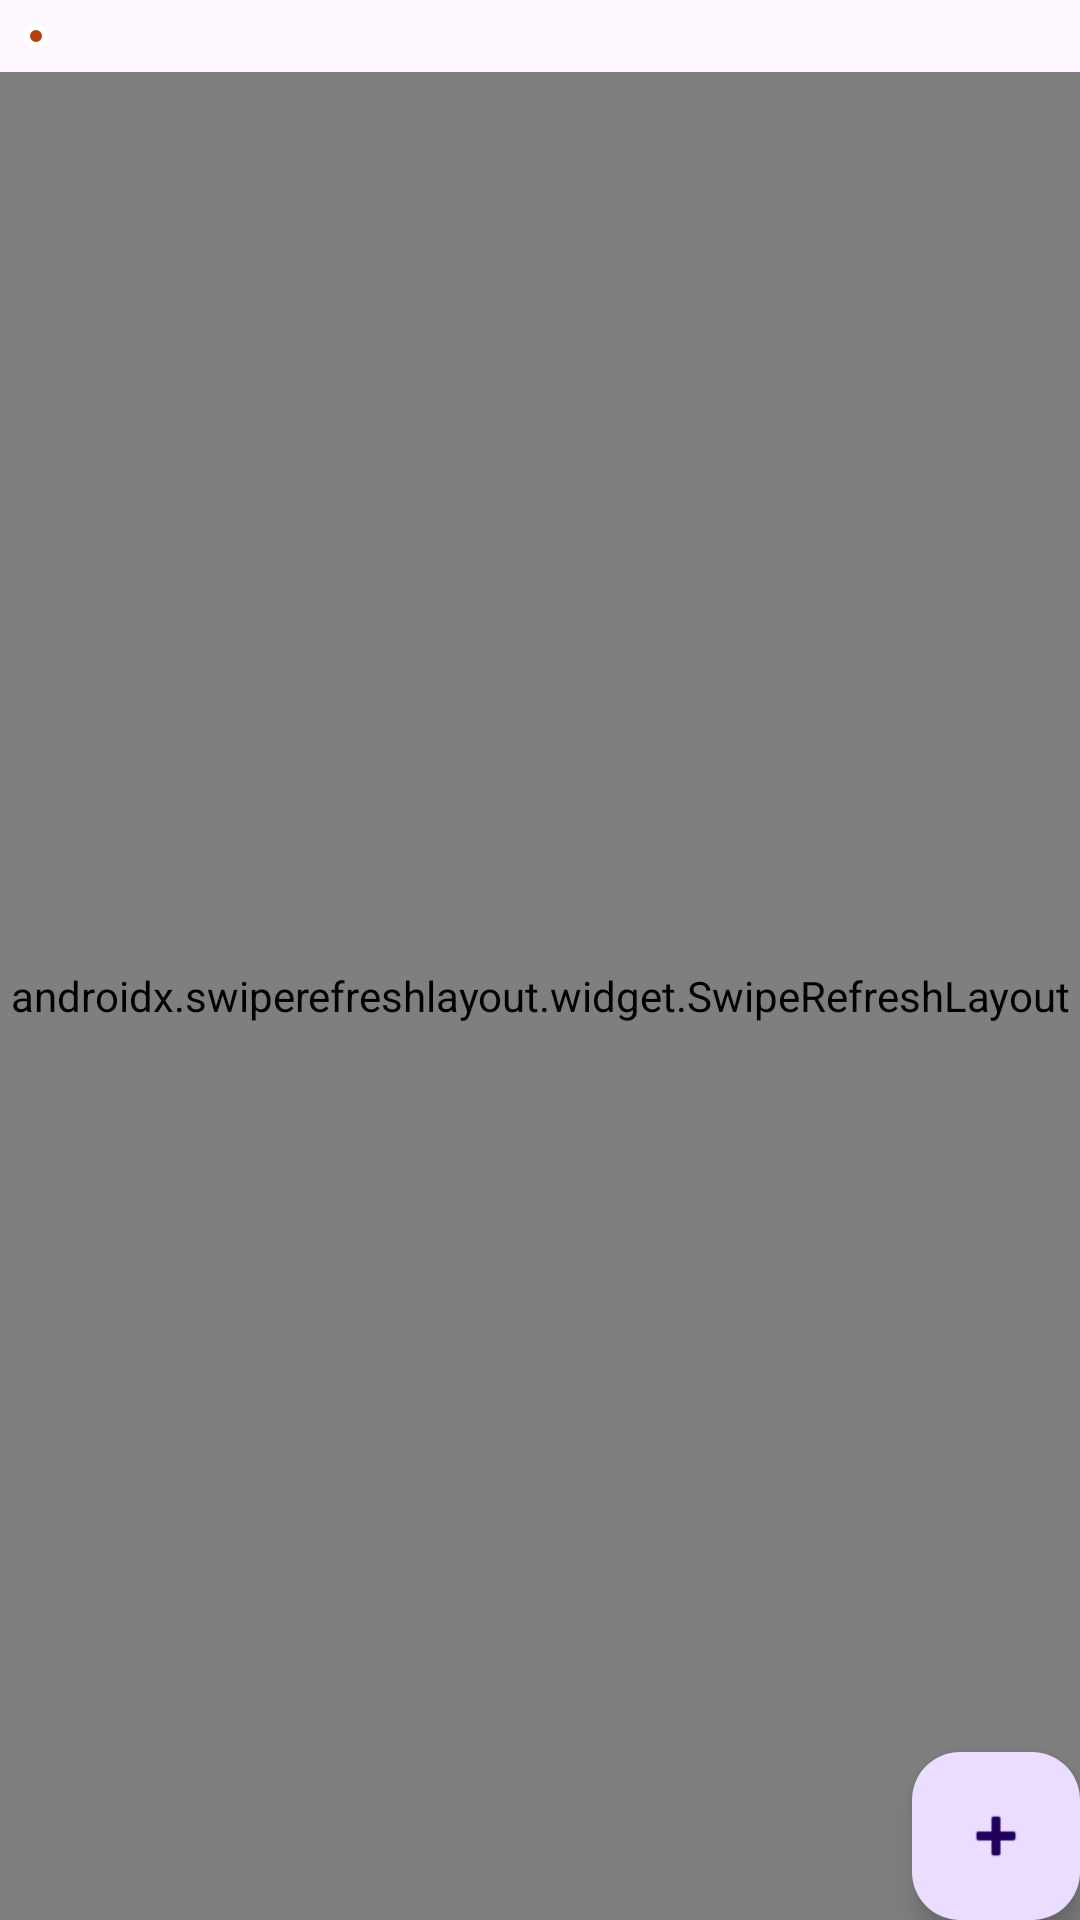

Point at icon controls on the screen. Image size 1080x1920, points as [x,y].
Action button to create feed: [996,1836]
